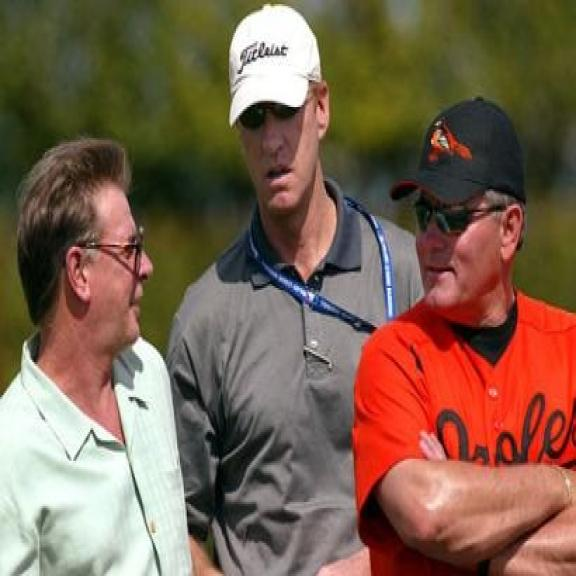face: (55, 172, 150, 352), (408, 185, 522, 322), (233, 85, 338, 218)
